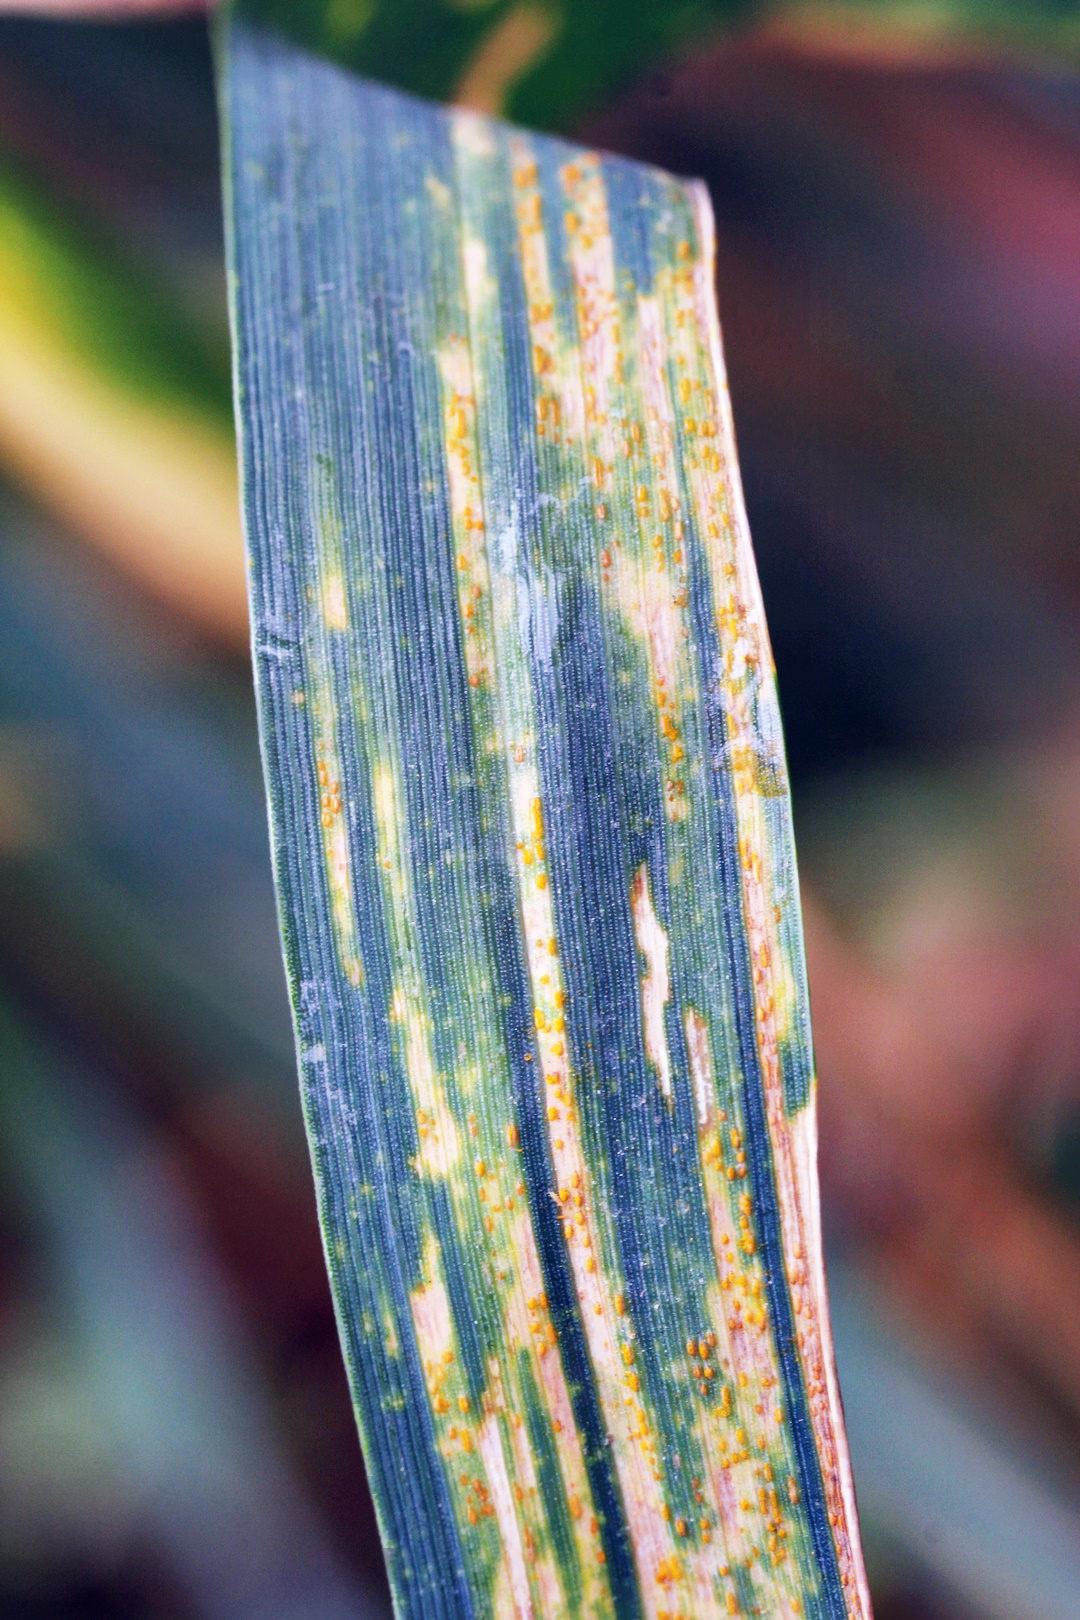Leaf Rust: (305, 199, 905, 1575)
